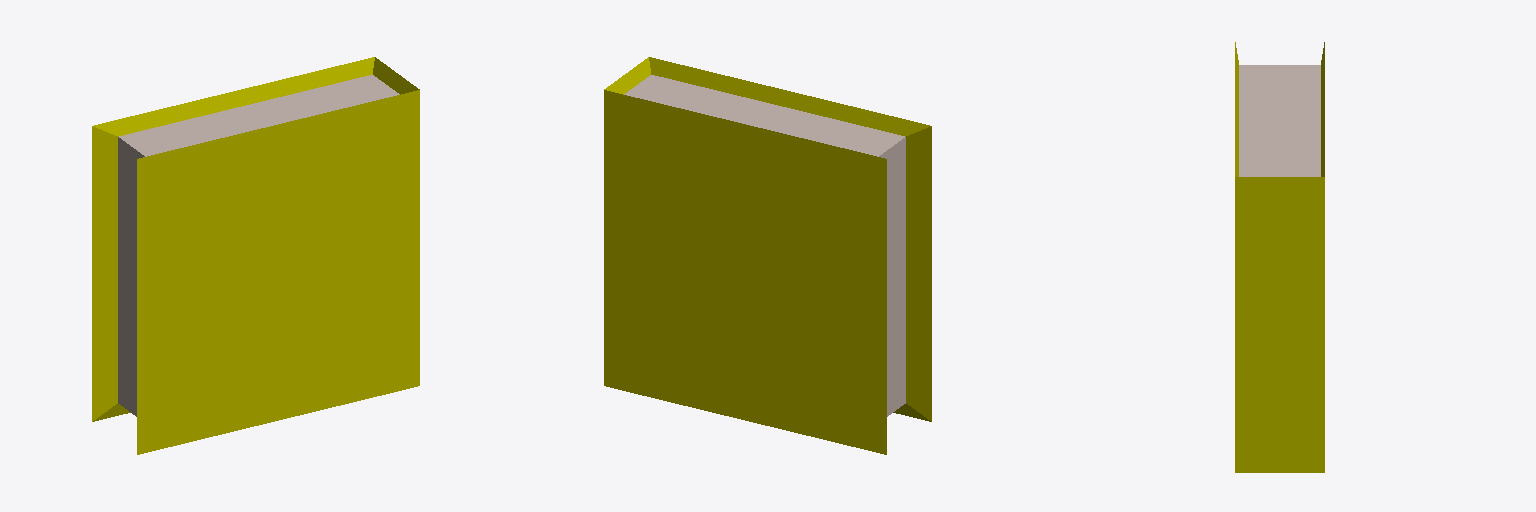
The model's file is Book_003.obj.
3 views of the same model, side by side, from view 1: azimuth 30°, elevation 25°; view 2: azimuth 150°, elevation 25°; view 3: azimuth 270°, elevation 25° (orthographic).
Parts seen in each view (by area): view 1: Book_3_Cube.007; view 2: Book_3_Cube.007; view 3: Book_3_Cube.007.
Boxes of the visible parts, <box> form: Book_3_Cube.007: <box>92,57,419,454</box>; Book_3_Cube.007: <box>604,57,931,454</box>; Book_3_Cube.007: <box>1235,42,1324,472</box>.
Size of the model in its own units: 2 by 2 by 0.5511.